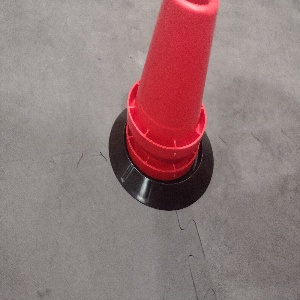Red_2: (124, 0, 218, 182)
